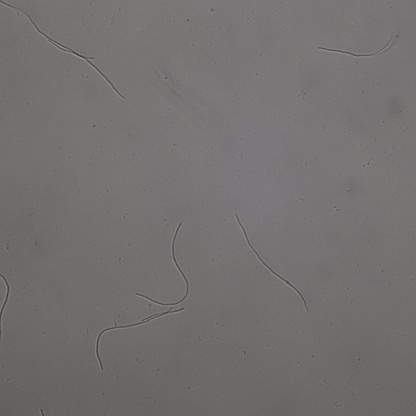Sensitive: (237, 215, 310, 313), (94, 308, 183, 370), (3, 1, 91, 60), (135, 223, 189, 306), (50, 41, 123, 96), (316, 35, 397, 59), (1, 274, 12, 317)
